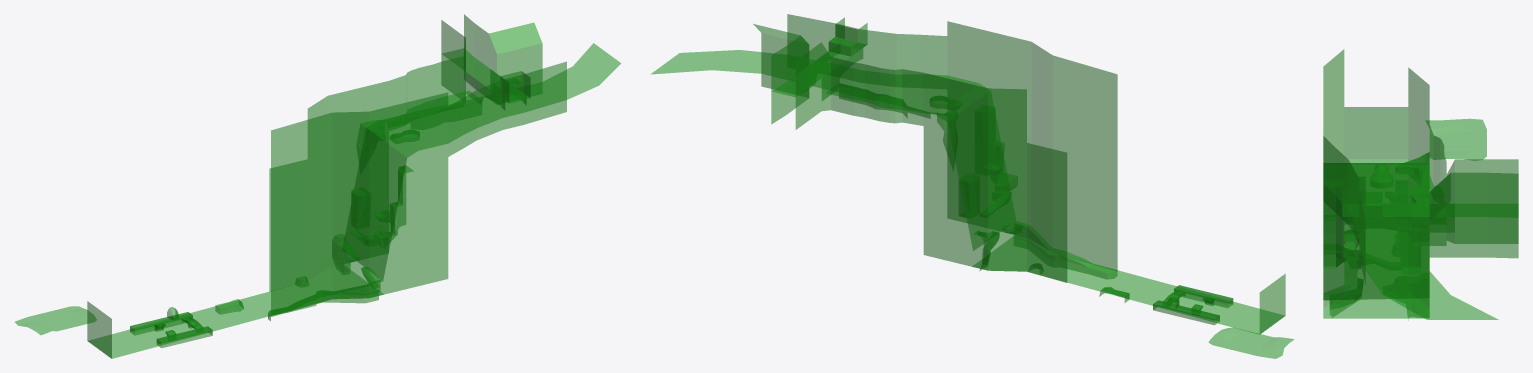
The model's file is hit.obj.
3 views of the same model, side by side, from view 1: azimuth 30°, elevation 25°; view 2: azimuth 150°, elevation 25°; view 3: azimuth 270°, elevation 25° (orthographic). The views are drawn at different scales.
Size of the model in its own units: 413 by 131 by 92.
